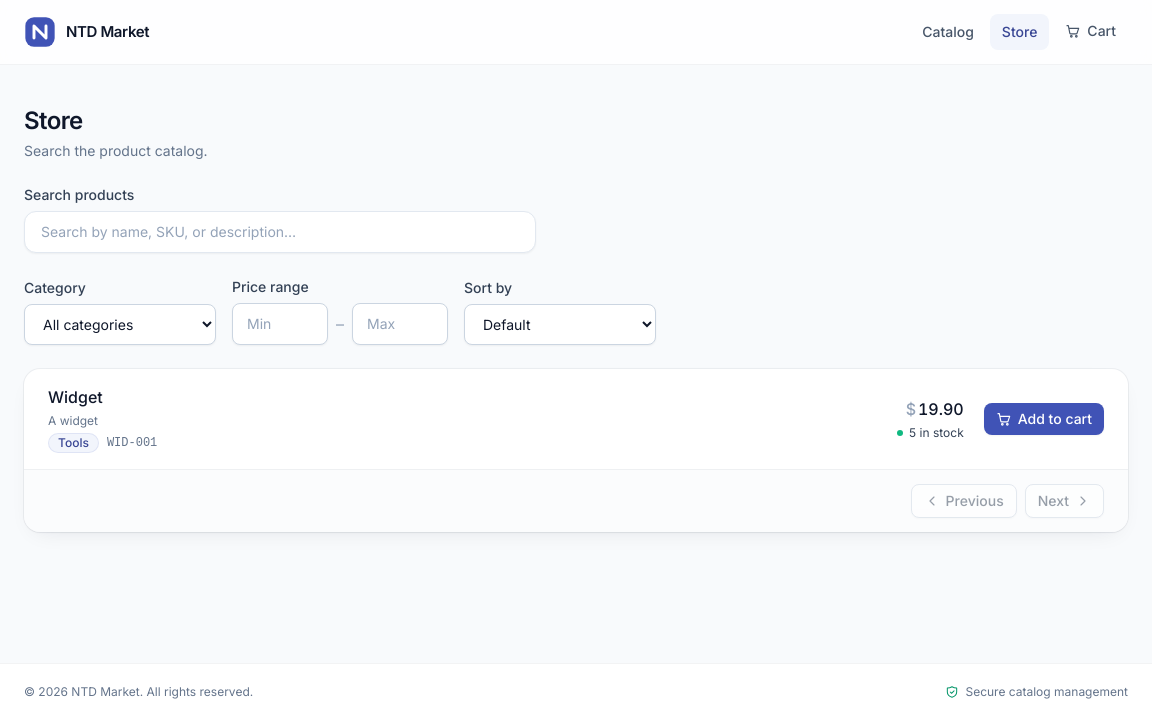
Test: StoreSearchPage › shows an empty state, not an error, when there are zero matches
This screenshot has width=1152, height=720.
Expected: the text "Widget" is shown, [48,387,103,407]
Type "zzz-no-match" into the search field labelled "Search products".
click(280, 232); type("zzz-no-match")  # box [24,211,536,253]
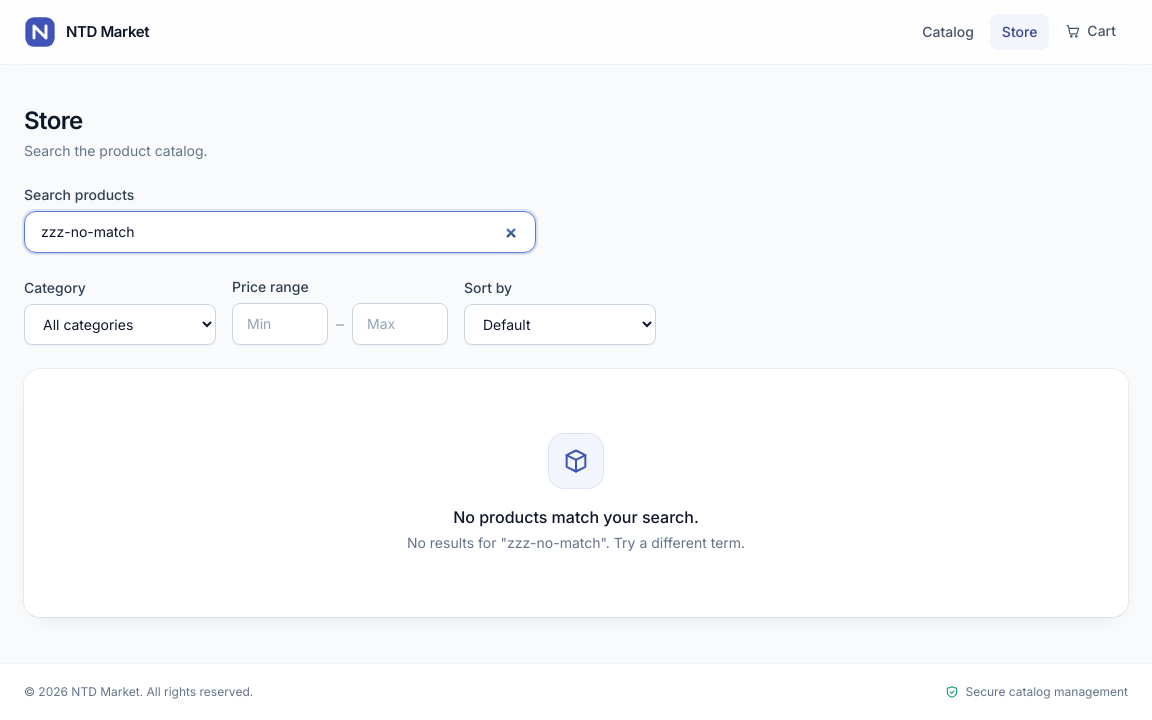
Result: the text "No products match your search." is shown at [453,507,699,527]
